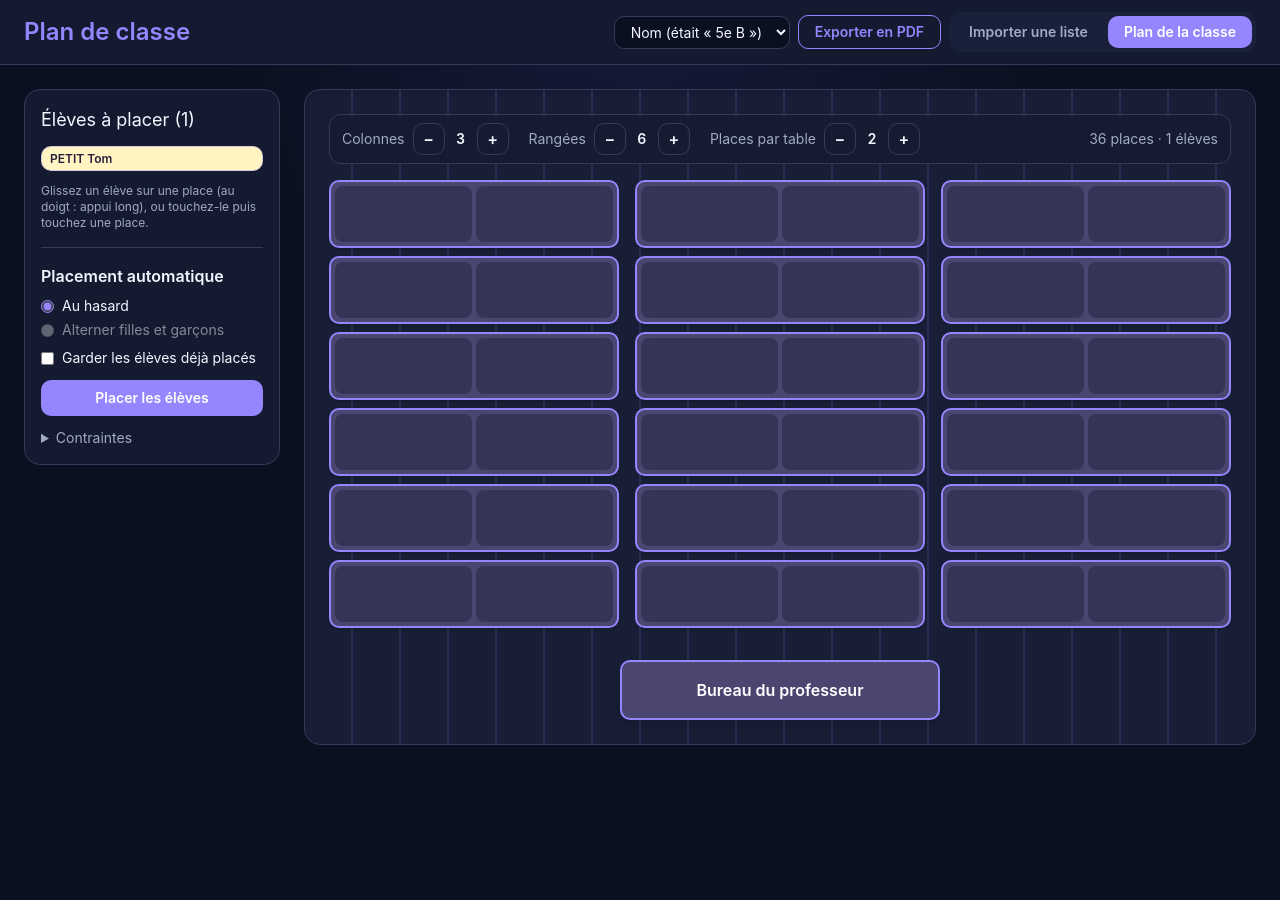
Test case: App › refuse l'export PDF sans nom de classe, puis télécharge le PDF sans fenêtre d'impression
This screenshot has width=1280, height=900.
Later steps or results of the test are not shown.
Expected: the dropdown named "Nom de la classe" shows "Nom (était « 5e B »)", 614,16 -> 790,48
Click the button "Exporter en PDF". click: {"x": 869, "y": 32}
box: 798,15 -> 941,49
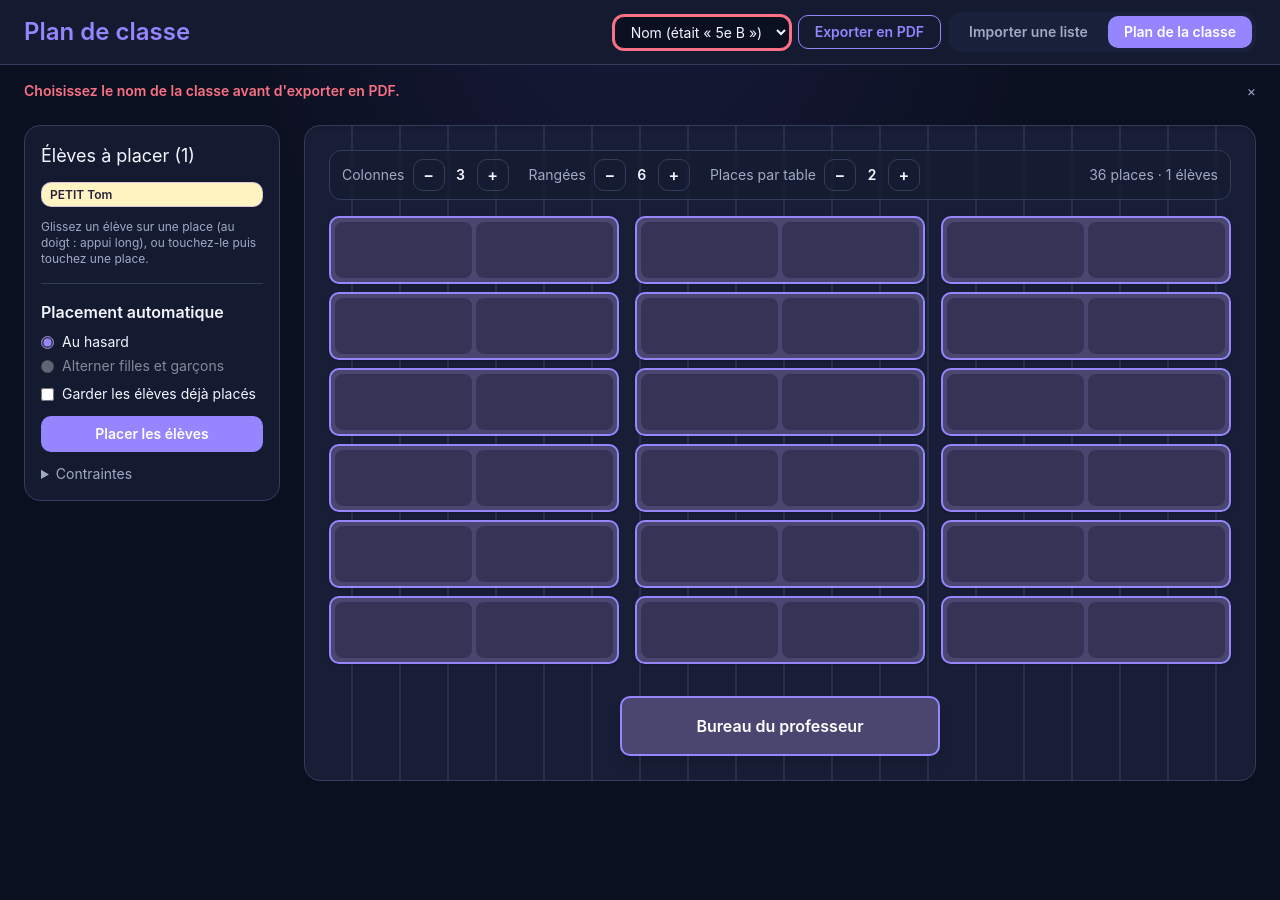
Now the message shows "Choisissez le nom de la classe", box 24,82 -> 400,99
Select "6A" in the dropdown named "Nom de la classe". click: {"x": 702, "y": 32}
box: 614,16 -> 790,48
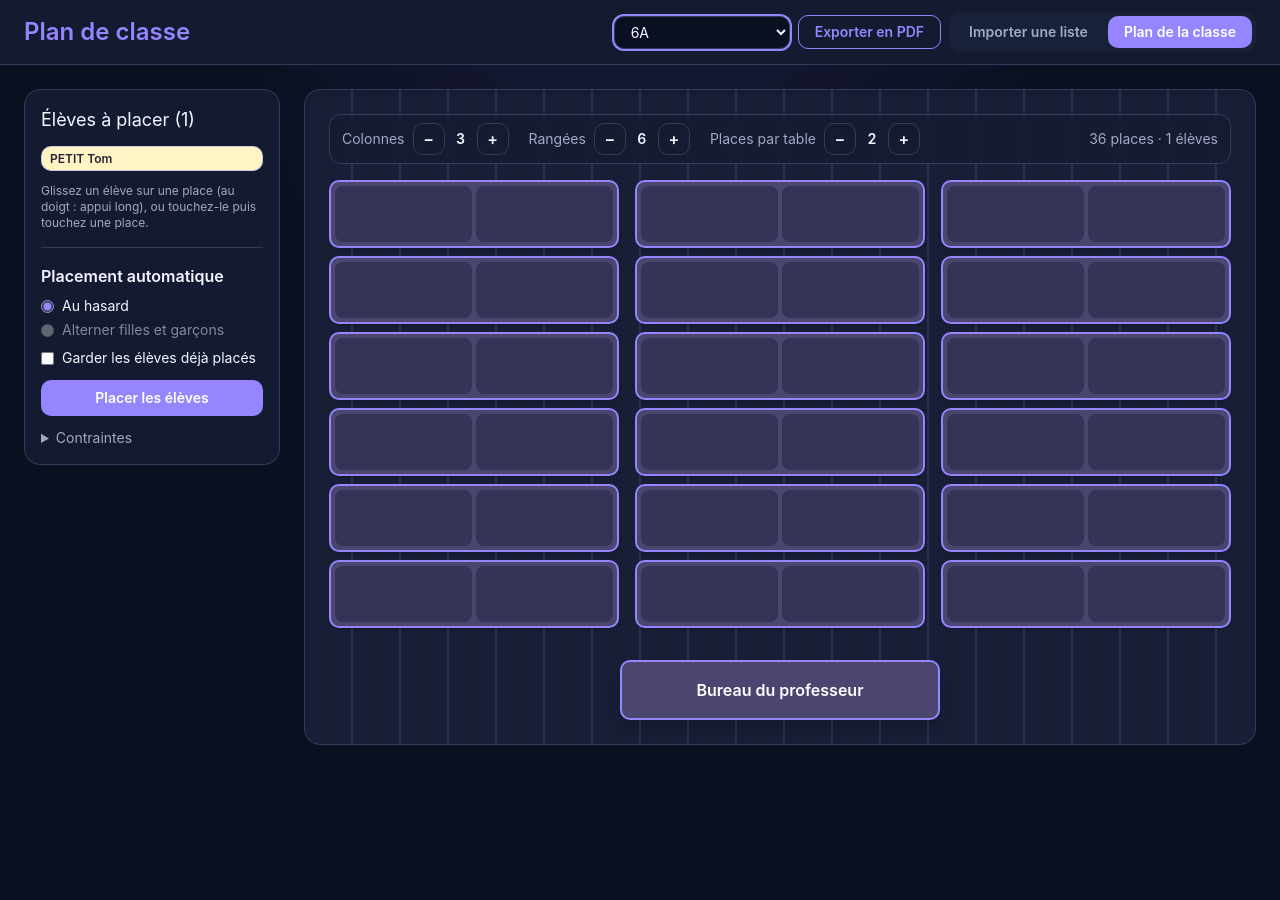
Click the button "Exporter en PDF". click: {"x": 869, "y": 32}
box: 798,15 -> 941,49
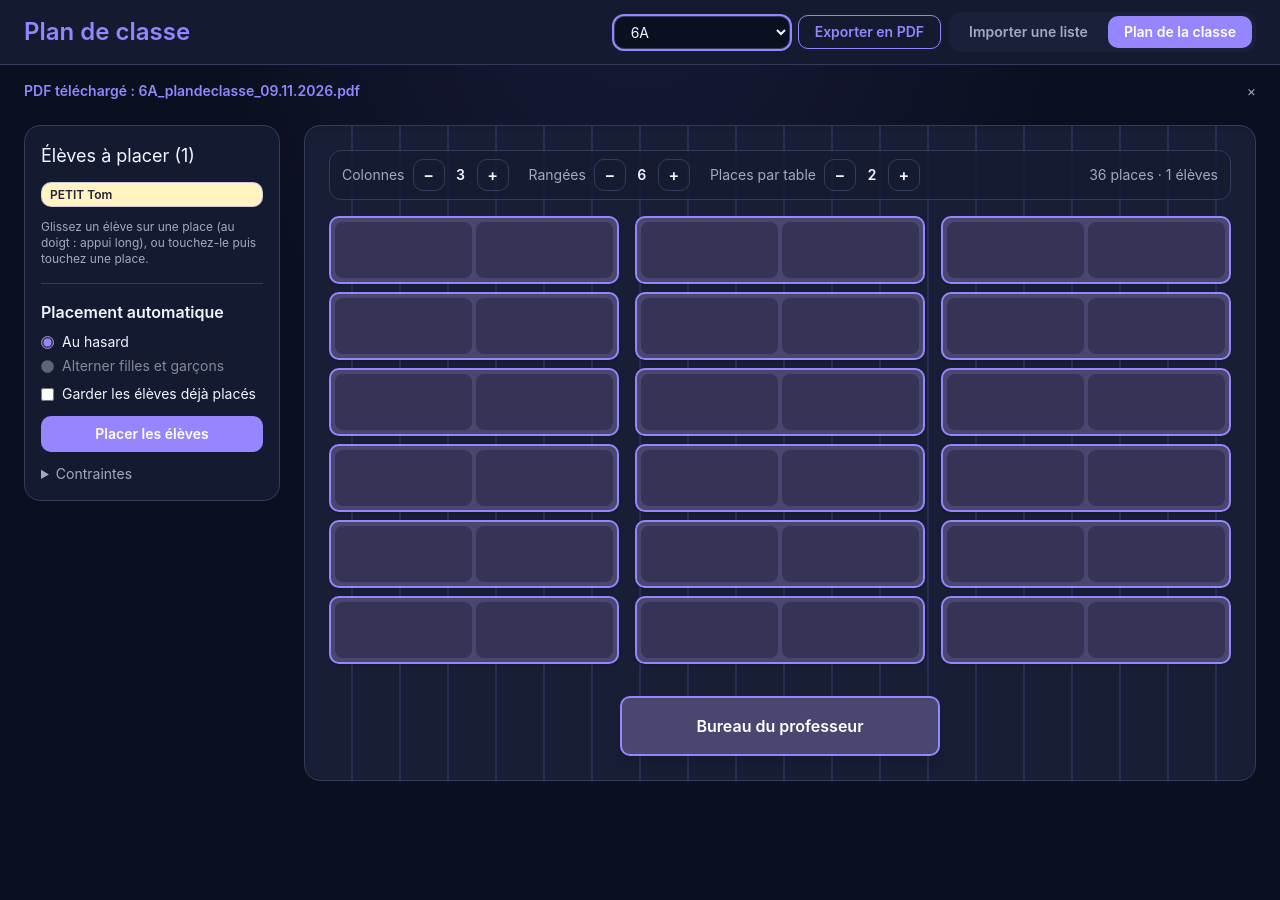
Now the text "PDF téléchargé : 6A_plandeclasse_09.11.2026.pdf" is shown, box 24,81 -> 360,101
